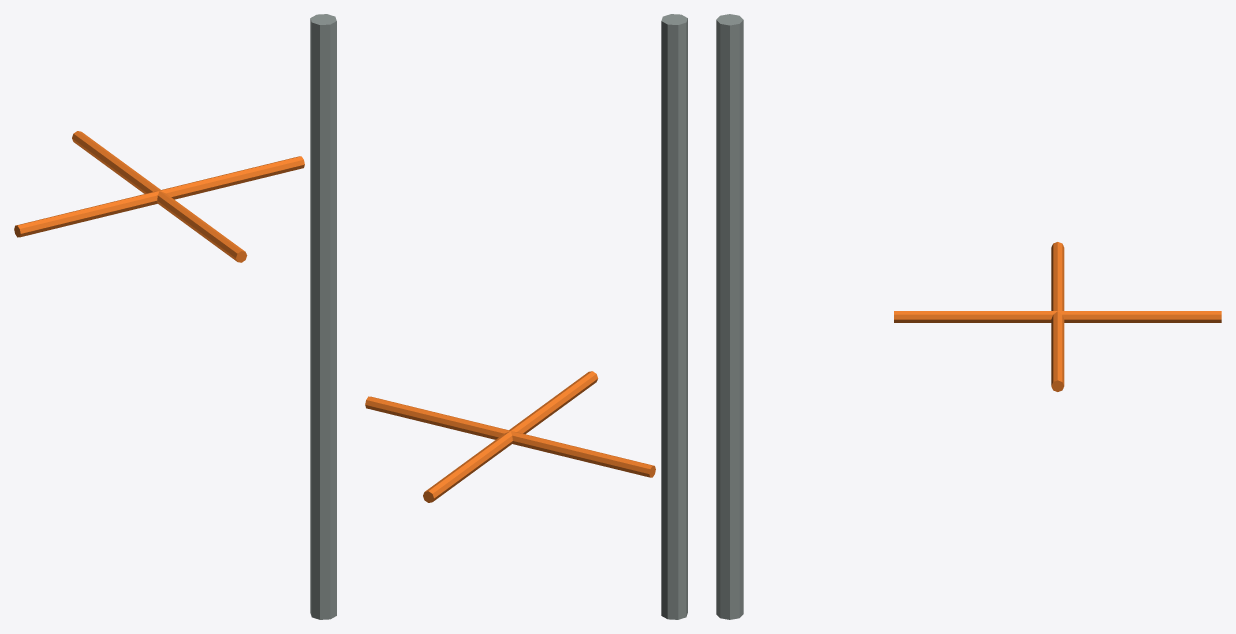
File: windmill_landmark.glb
3 views of the same model, side by side, from view 1: azimuth 30°, elevation 25°; view 2: azimuth 150°, elevation 25°; view 3: azimuth 270°, elevation 25° (orthographic).
Visible parts, largest first — view 1: windmill_tower, blade_a, blade_b; view 2: windmill_tower, blade_a, blade_b; view 3: windmill_tower, blade_b, blade_a.
Boxes of the visible parts, x1=… form: windmill_tower: x1=310, y1=14, x2=336, y2=619; blade_a: x1=14, y1=156, x2=304, y2=237; blade_b: x1=72, y1=131, x2=247, y2=262; windmill_tower: x1=661, y1=14, x2=687, y2=619; blade_a: x1=365, y1=396, x2=655, y2=477; blade_b: x1=423, y1=371, x2=598, y2=502; windmill_tower: x1=716, y1=14, x2=743, y2=619; blade_b: x1=894, y1=311, x2=1221, y2=322; blade_a: x1=1051, y1=242, x2=1064, y2=391.
Size of the model in its own units: 6 by 12 by 9.25.
